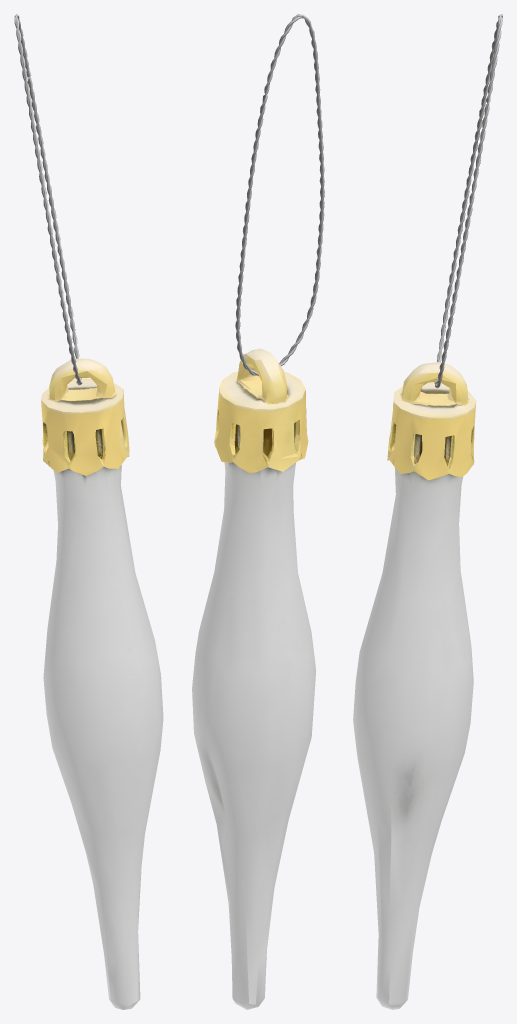
Rendered from Champagne_Bottle.glb.
3 renders of one model, left to right at view 1: azimuth 90°, elevation 25°; view 2: azimuth 210°, elevation 25°; view 3: azimuth 270°, elevation 25°, orthographic. The views are drawn at different scales.
Visible parts, largest first — view 1: Mesh1.0, GN Instance; view 2: Mesh1.0, GN Instance; view 3: Mesh1.0, GN Instance.
Part boxes in pixels (bbox=[...]): Mesh1.0: bbox=[41, 358, 163, 1009]; GN Instance: bbox=[14, 14, 82, 385]; Mesh1.0: bbox=[192, 348, 315, 1009]; GN Instance: bbox=[235, 14, 324, 375]; Mesh1.0: bbox=[353, 362, 476, 1009]; GN Instance: bbox=[434, 14, 502, 388].
Size of the model in its own units: 0.0149 by 0.1382 by 0.0188.
2 materials, 1 textured.
